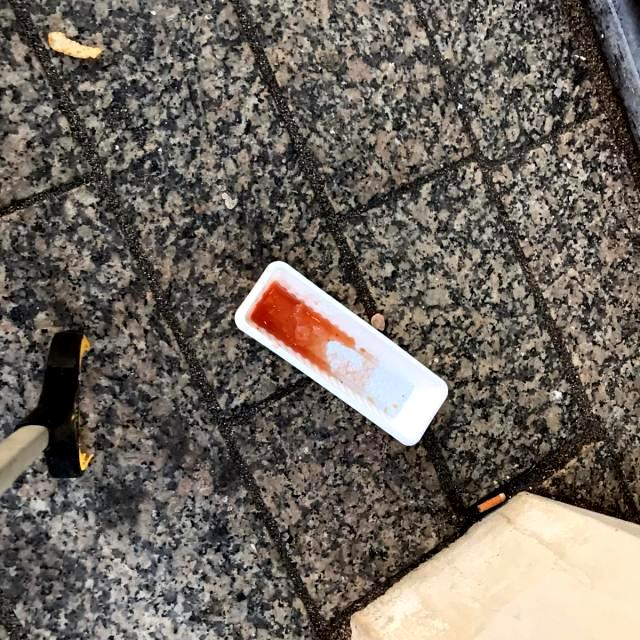Plastic: (231, 258, 449, 448)
